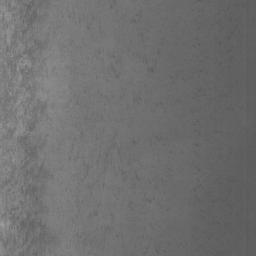Silk spot: (0, 0, 57, 256), (65, 128, 165, 255), (67, 86, 142, 141), (216, 2, 248, 68), (131, 223, 170, 256), (88, 48, 121, 82), (68, 11, 104, 37), (128, 49, 160, 73), (110, 0, 142, 23), (151, 136, 169, 146)
